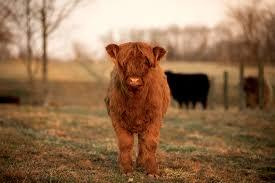cow: (104, 41, 171, 177), (164, 70, 210, 111)
